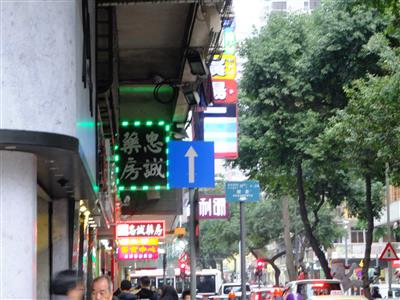oneway: (162, 135, 219, 193)
